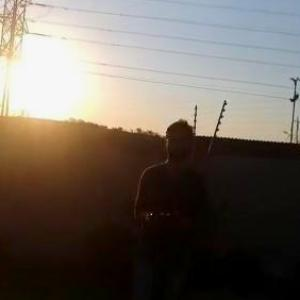follow: (126, 113, 210, 299)
